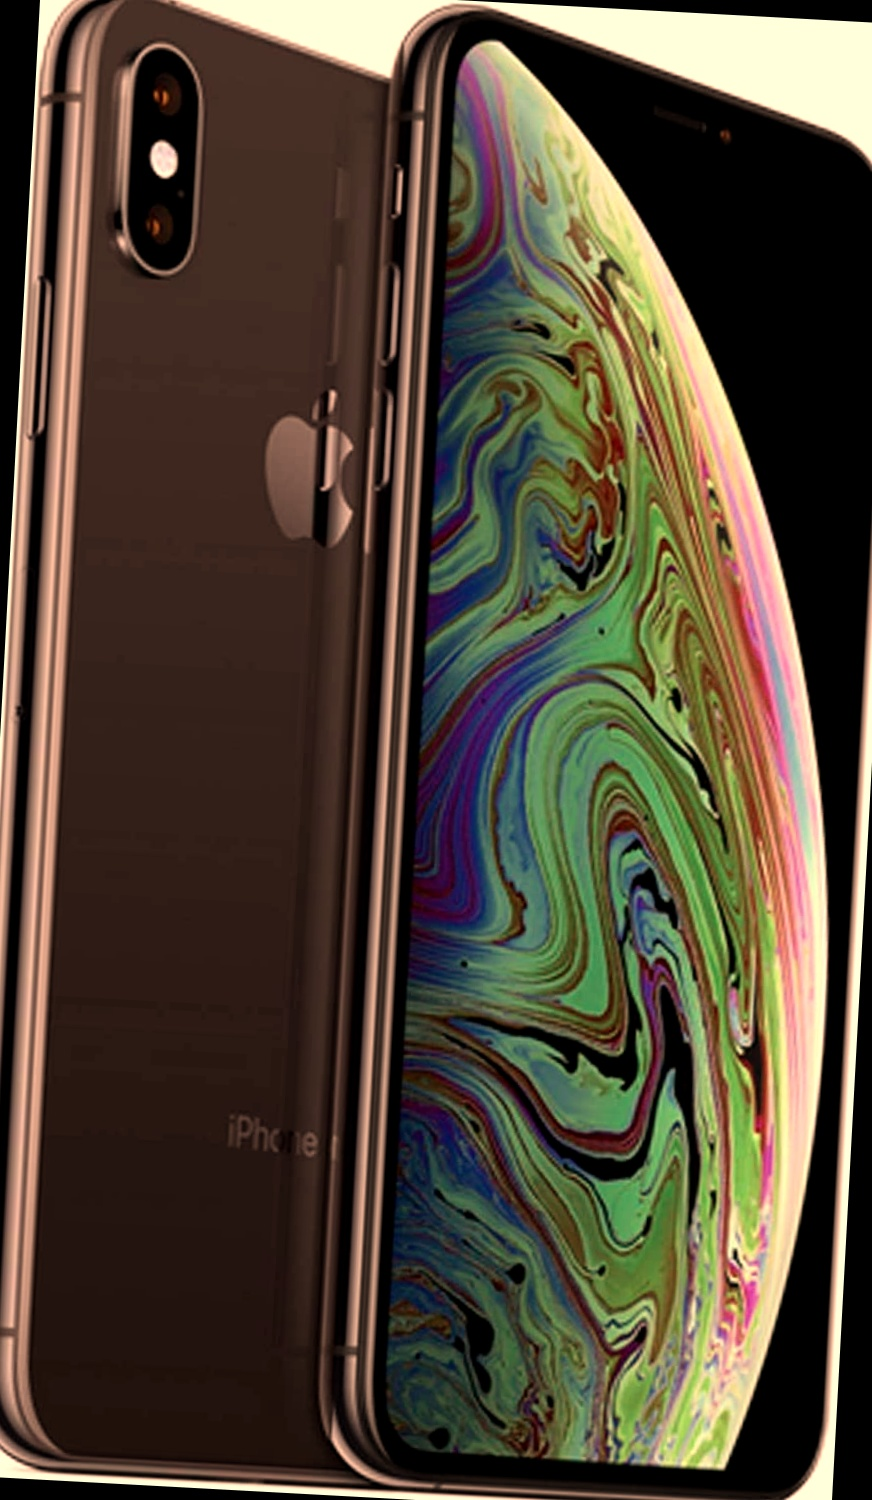iphone: (358, 1, 863, 1491)
